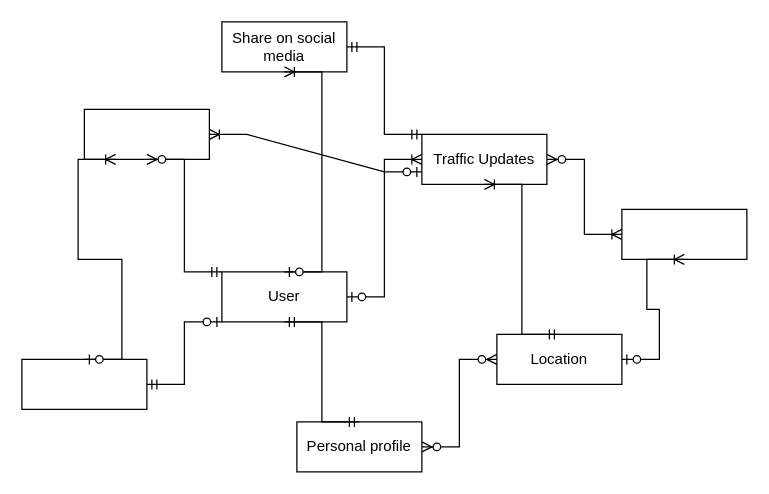
The diagram is 769 pixels wide and 494 high, and some of its shapes have lost their labels. Each missing label, with the centre of its shape:
"Analyzed data" goes at [684,233].
"Comment" goes at [146,133].
"Discussion" goes at [84,383].
